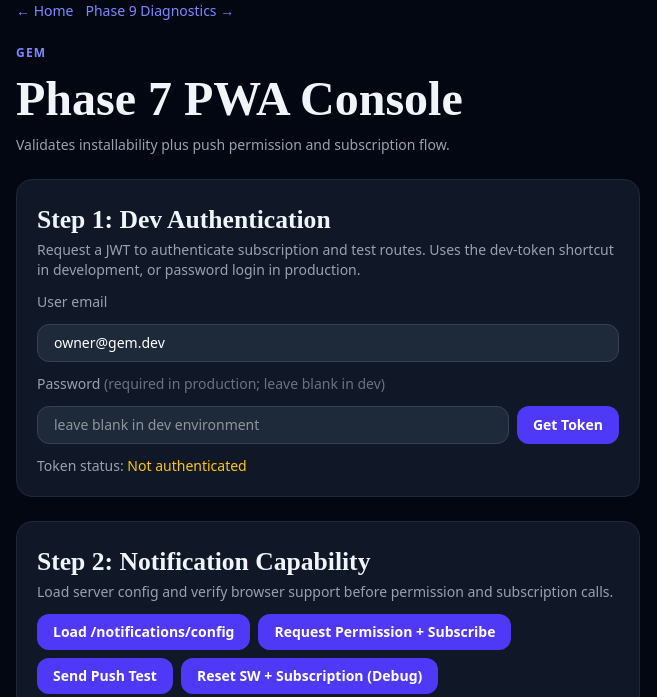
Test: Phase7DebugPage › blocks push tests until authentication is available
Click the button "Send Push Test" at (105, 676), box [37,658,173,694]
(page scrolled)
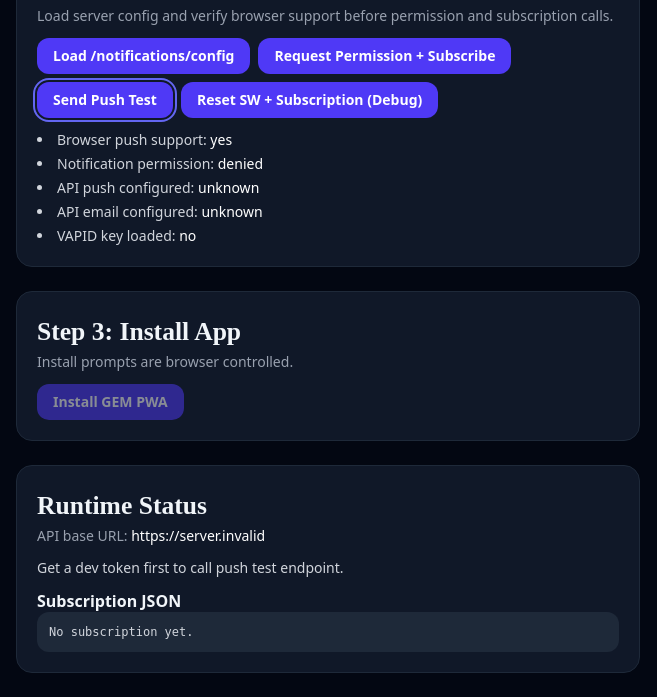
Now the text "Get a dev token first to call push test endpoint." is shown, box [37,558,344,577]
